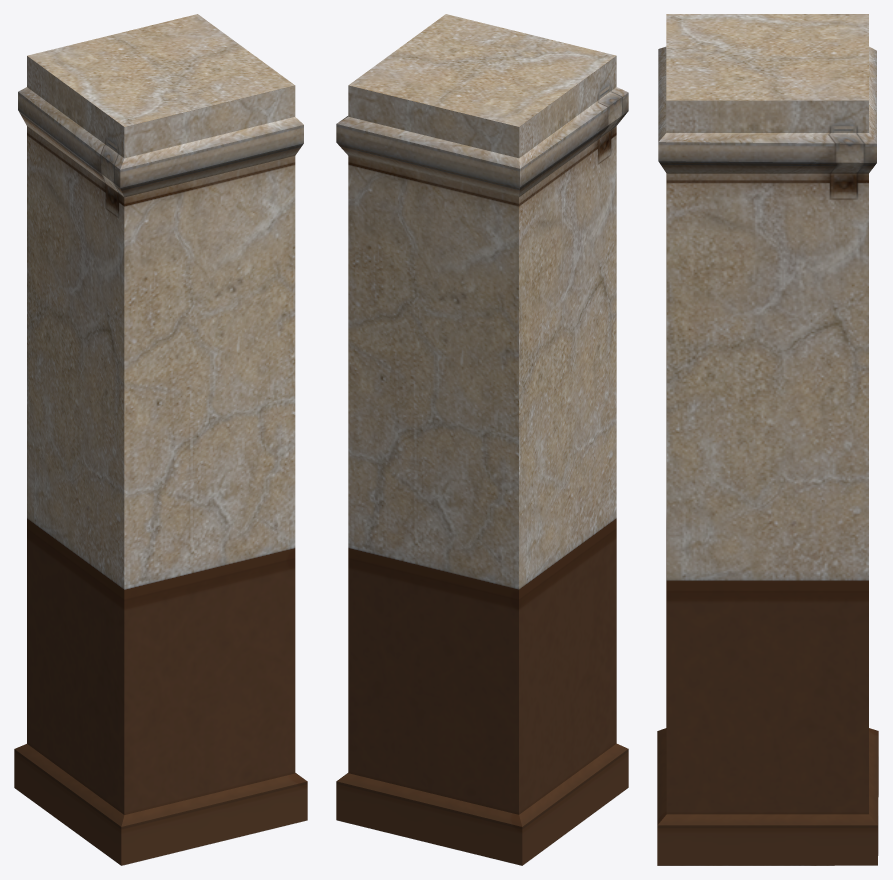
File: Wall_Serv_box1.fbx
The picture shows the model from 3 angles, left to right: view 1: azimuth 30°, elevation 25°; view 2: azimuth 150°, elevation 25°; view 3: azimuth 270°, elevation 25°; orthographic projection. The views are drawn at different scales.
Visible parts, largest first — view 1: Plane.011; view 2: Plane.011; view 3: Plane.011.
Boxes of the visible parts, bbox=[...] form: Plane.011: bbox=[14, 14, 307, 865]; Plane.011: bbox=[336, 14, 628, 865]; Plane.011: bbox=[657, 14, 878, 865].
Bounding box in the file's own units: 99 × 371 × 97.72.
